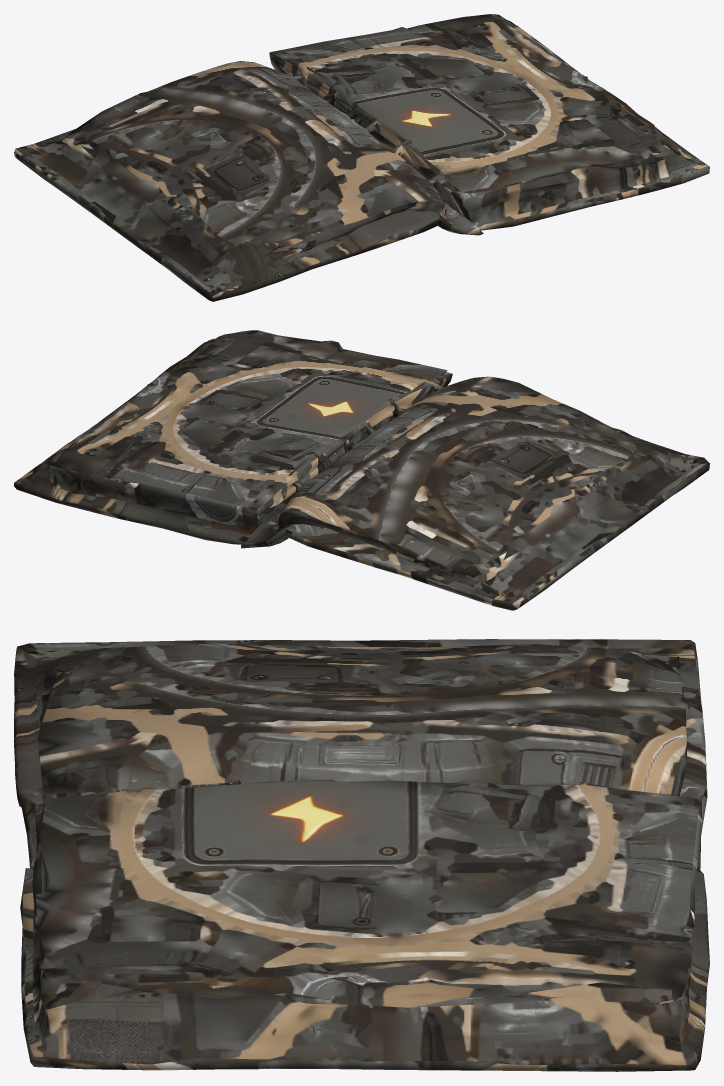
Rendered from OpenBook.fbx.
3 renders of one model, top to bottom at view 1: azimuth 30°, elevation 25°; view 2: azimuth 150°, elevation 25°; view 3: azimuth 270°, elevation 25°, orthographic. The views are drawn at different scales.
Visible parts, largest first — view 1: mesh_node; view 2: mesh_node; view 3: mesh_node.
Part boxes in pixels (x1,y1,x2,y2): mesh_node: (14,14,709,301); mesh_node: (14,330,709,610); mesh_node: (14,639,709,1071).
Size of the model in its own units: 1.98 by 0.232 by 1.38.
